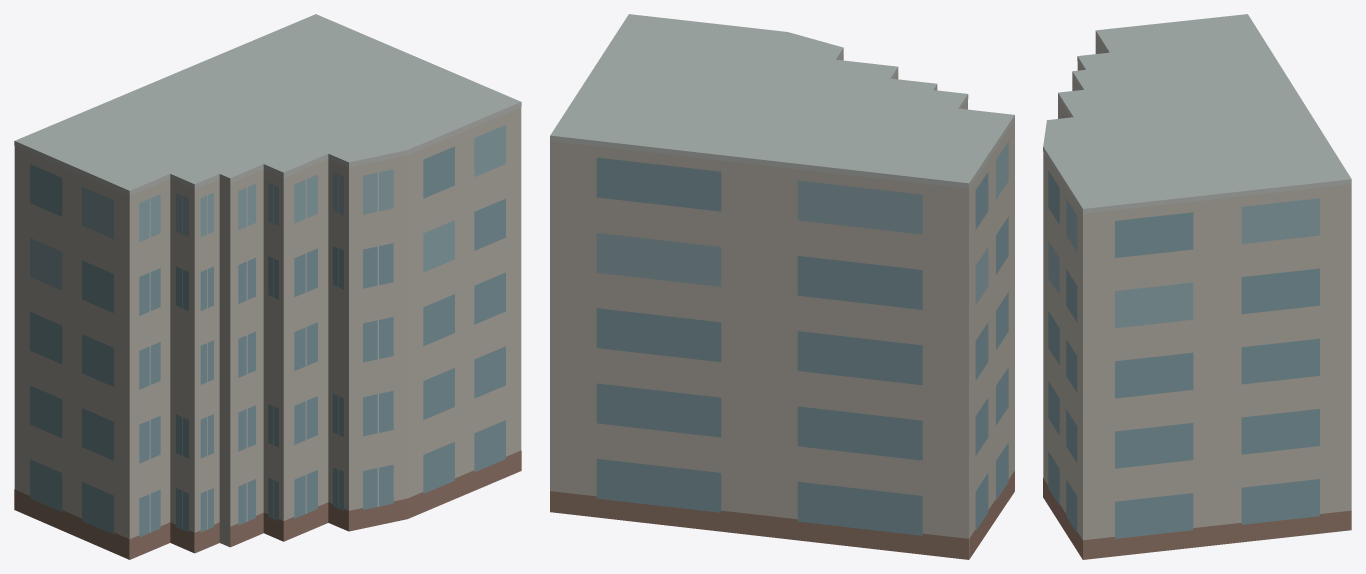
Rendered from survey-upis-32702476.glb.
3 renders of one model, left to right at view 1: azimuth 30°, elevation 25°; view 2: azimuth 150°, elevation 25°; view 3: azimuth 270°, elevation 25°, orthographic. The views are drawn at different scales.
Parts seen in each view (by area): view 1: survey-upis-32702476.tmp; view 2: survey-upis-32702476.tmp; view 3: survey-upis-32702476.tmp.
Part boxes in pixels (x1,y1,x2,y2): survey-upis-32702476.tmp: [14, 14, 521, 559]; survey-upis-32702476.tmp: [550, 14, 1014, 559]; survey-upis-32702476.tmp: [1043, 14, 1351, 559].
Bounding box in the file's own units: 20.26 × 17 × 13.56.
